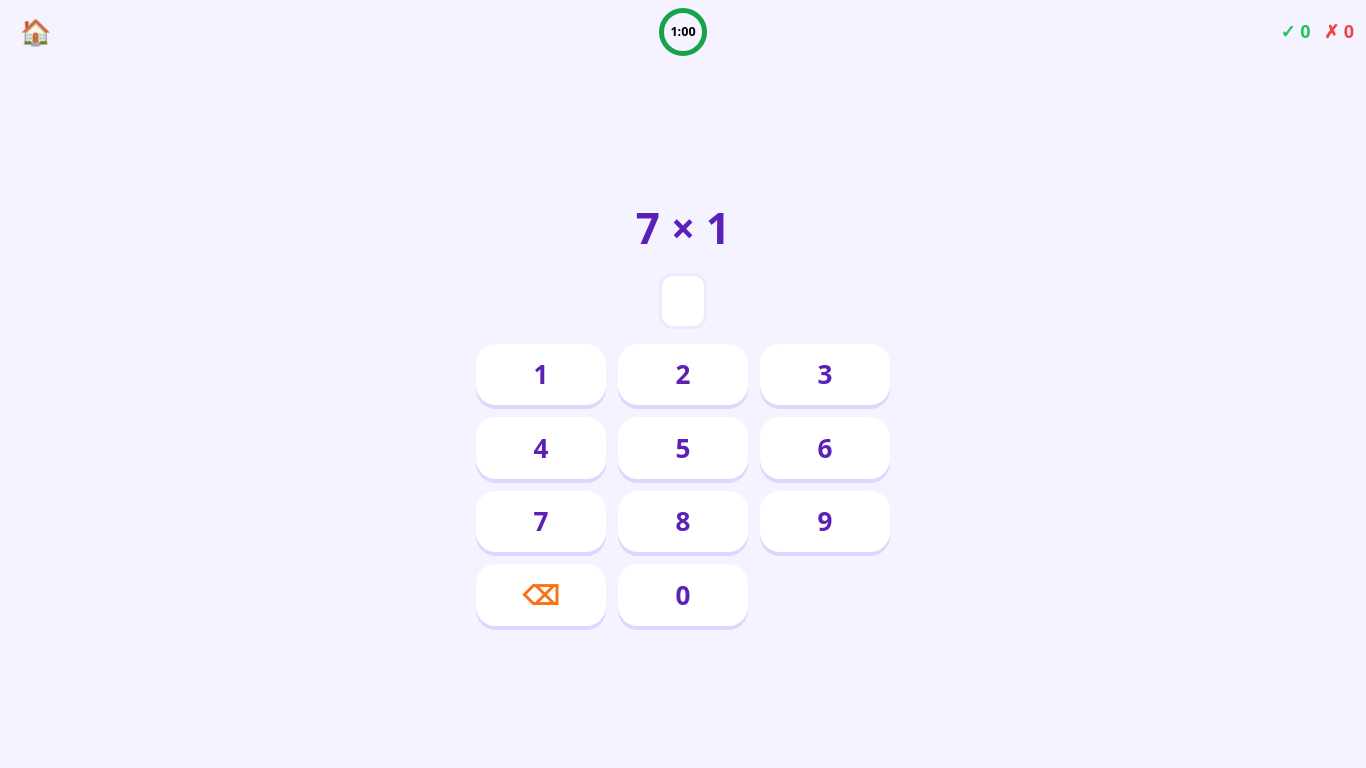
GameScreen › shows a cat reward after a correct answer
Click the button named "Digit 7": click(541, 522) x1=476 y1=491 x2=606 y2=552
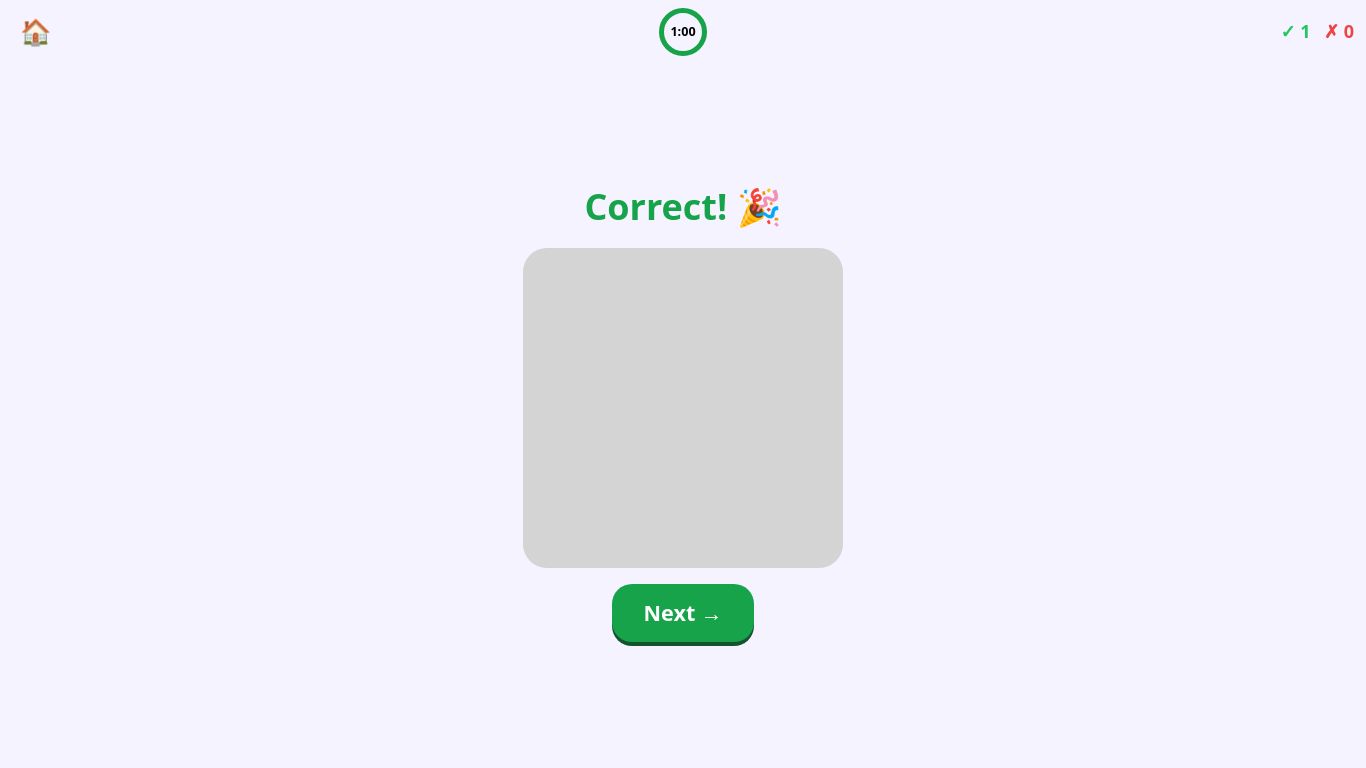
Result: the text "Correct! 🎉" is shown at x1=584 y1=182 x2=782 y2=232
